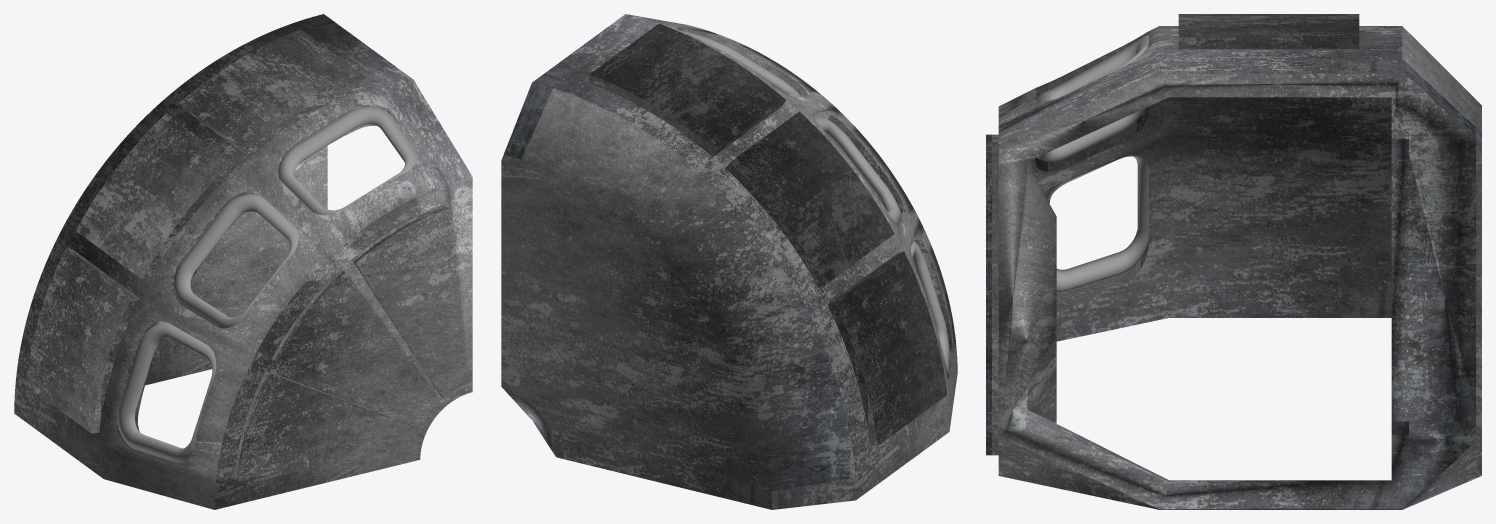
The model's file is Corner_LOD0.obj.
The picture shows the model from 3 angles, left to right: view 1: azimuth 30°, elevation 25°; view 2: azimuth 150°, elevation 25°; view 3: azimuth 270°, elevation 25°; orthographic projection. The views are drawn at different scales.
Parts seen in each view (by area): view 1: Line773, Box1501, Box1502, Box1487, Box1488, Box1489, Box1500, Rectangle139, Rectangle140, Rectangle141; view 2: Line773, Box1501, Box1502, Box1500, Rectangle139, Rectangle140, Rectangle141; view 3: Line773, Box1500, Box1487, Rectangle140, Rectangle141, Rectangle139.
Boxes of the visible parts, x1=… form: Line773: x1=14, y1=14, x2=472, y2=509; Box1501: x1=75, y1=113, x2=236, y2=281; Box1502: x1=25, y1=247, x2=139, y2=433; Box1487: x1=351, y1=205, x2=469, y2=398; Box1488: x1=234, y1=370, x2=419, y2=478; Box1489: x1=272, y1=269, x2=440, y2=425; Box1500: x1=179, y1=29, x2=367, y2=157; Rectangle139: x1=173, y1=194, x2=298, y2=328; Rectangle140: x1=117, y1=322, x2=216, y2=463; Rectangle141: x1=278, y1=106, x2=417, y2=215; Line773: x1=501, y1=14, x2=957, y2=509; Box1501: x1=725, y1=111, x2=894, y2=287; Box1502: x1=827, y1=251, x2=947, y2=445; Box1500: x1=588, y1=23, x2=786, y2=156; Rectangle139: x1=814, y1=116, x2=901, y2=225; Rectangle140: x1=910, y1=241, x2=949, y2=377; Rectangle141: x1=679, y1=29, x2=801, y2=97; Line773: x1=998, y1=26, x2=1481, y2=509; Box1500: x1=1178, y1=14, x2=1359, y2=49; Box1487: x1=986, y1=134, x2=998, y2=411; Rectangle140: x1=1044, y1=155, x2=1148, y2=291; Rectangle141: x1=1036, y1=34, x2=1148, y2=101; Rectangle139: x1=1037, y1=108, x2=1145, y2=162.
Bounding box in the file's own units: 40.06 × 40.12 × 40.32.
2 materials, 1 textured.
